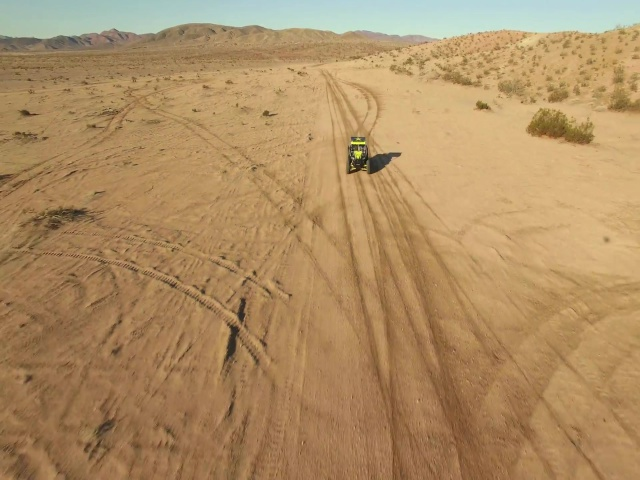vehicle: (345, 135, 373, 174)
